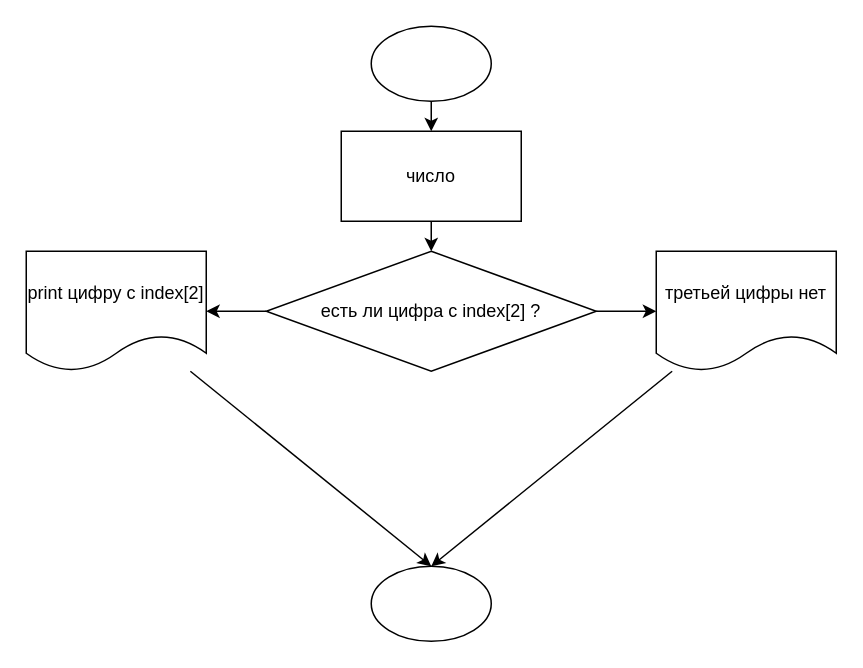
Some shapes in this 863 by 668 pixel diagram are drawn without their labels. Here are the shapes that lost their labels. From the top down, the box of each, then its label:
(370, 25, 491, 101): start
(370, 565, 491, 641): end
